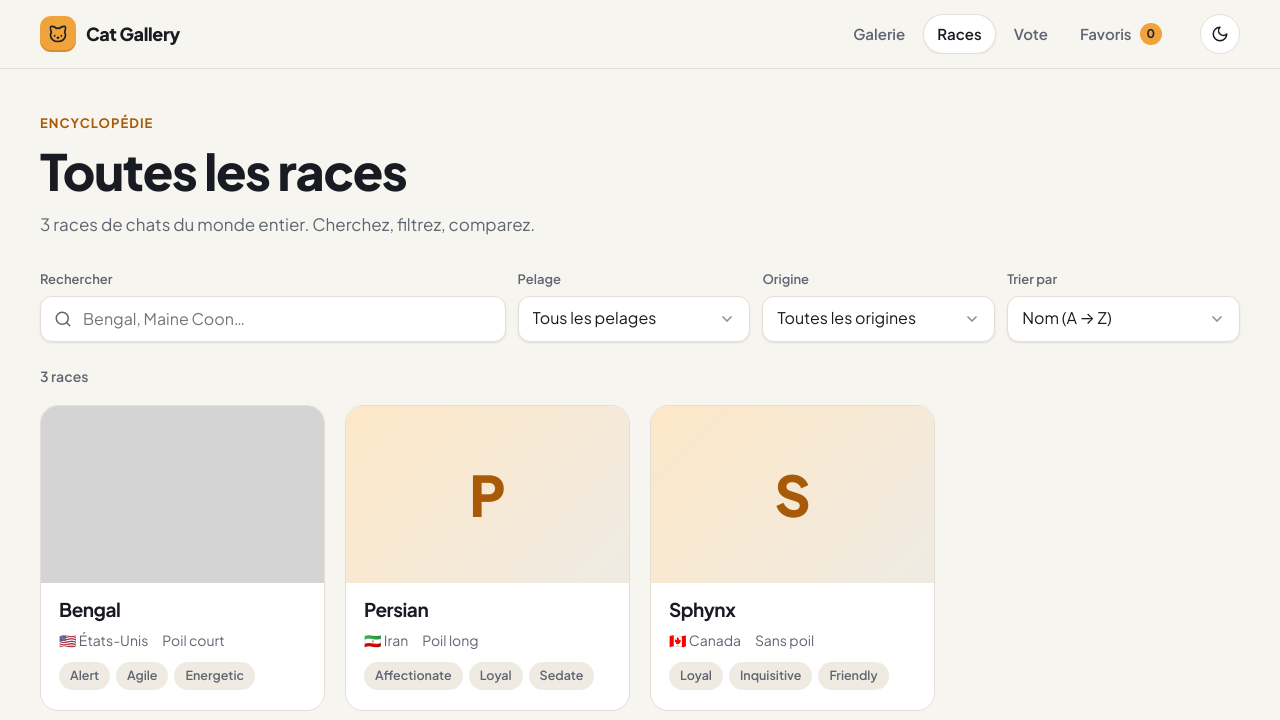
breeds › searches breeds and keeps the query in the URL
Expected: the text "3 races" is shown, [40,367,88,385]
Type "pers" into the search field at (273, 319), box [40,296,506,342]
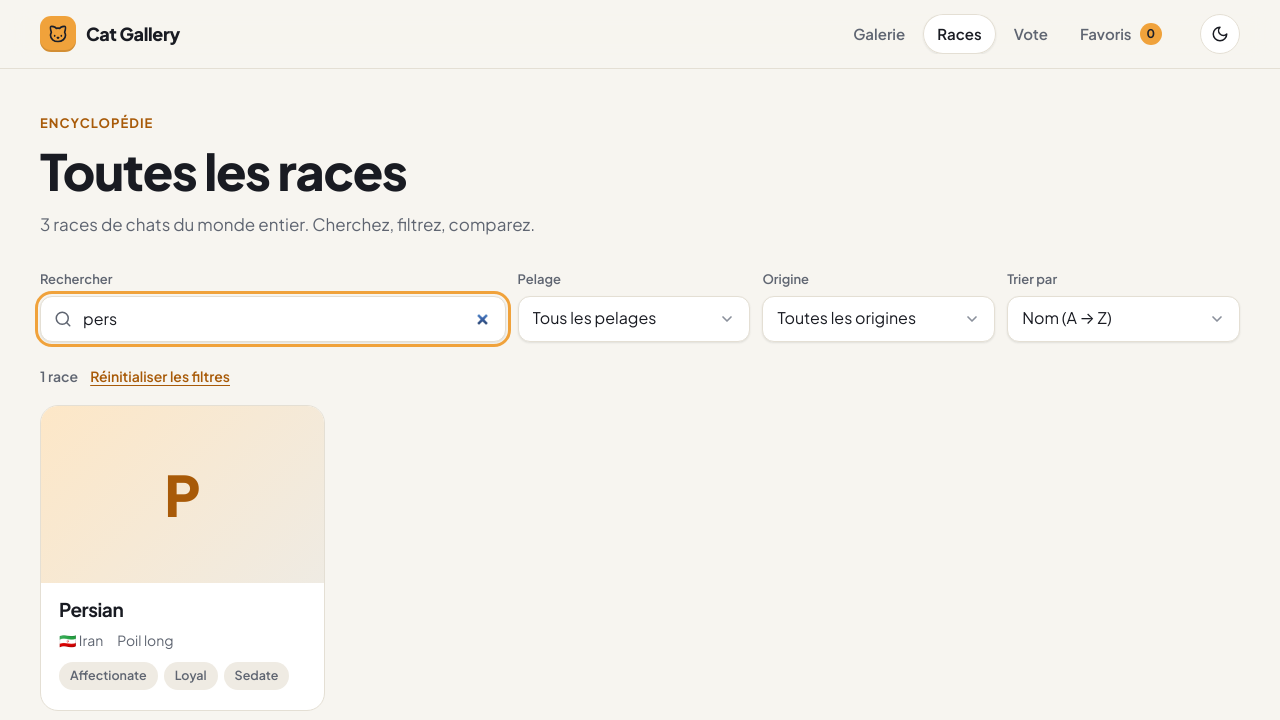
Now the text "1 race" is shown, box [40,366,230,387]
